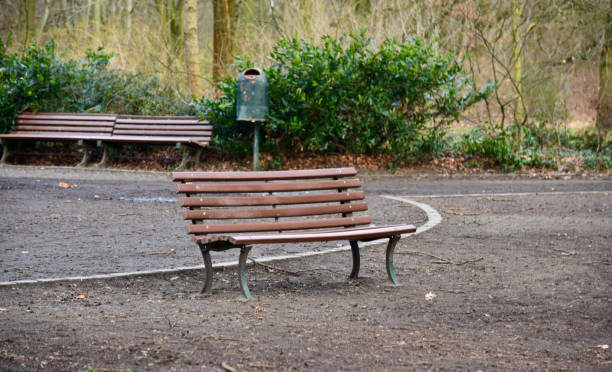bench: (167, 163, 414, 304), (4, 111, 211, 168)
